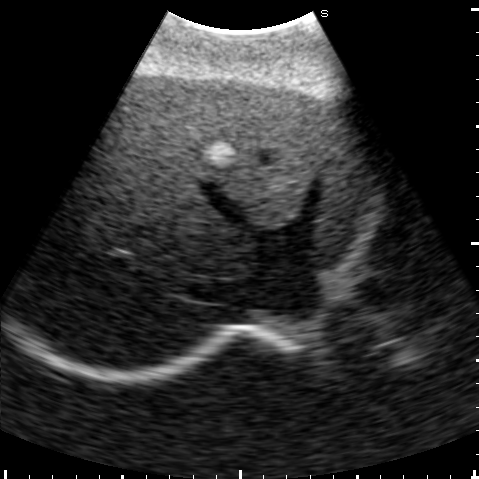S2: (306, 126, 367, 269)
S4: (127, 76, 329, 228)
S7: (42, 240, 199, 362)
S8: (60, 104, 246, 274)
Tumor: (204, 141, 236, 166)
